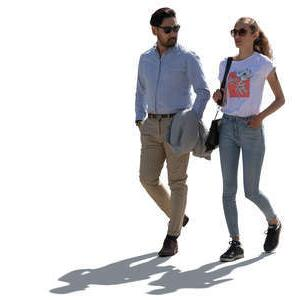long sleeve shirt: (133, 42, 212, 122)
short sleeve shirt: (217, 51, 276, 116)
trousers: (219, 114, 276, 241), (138, 113, 190, 238)
